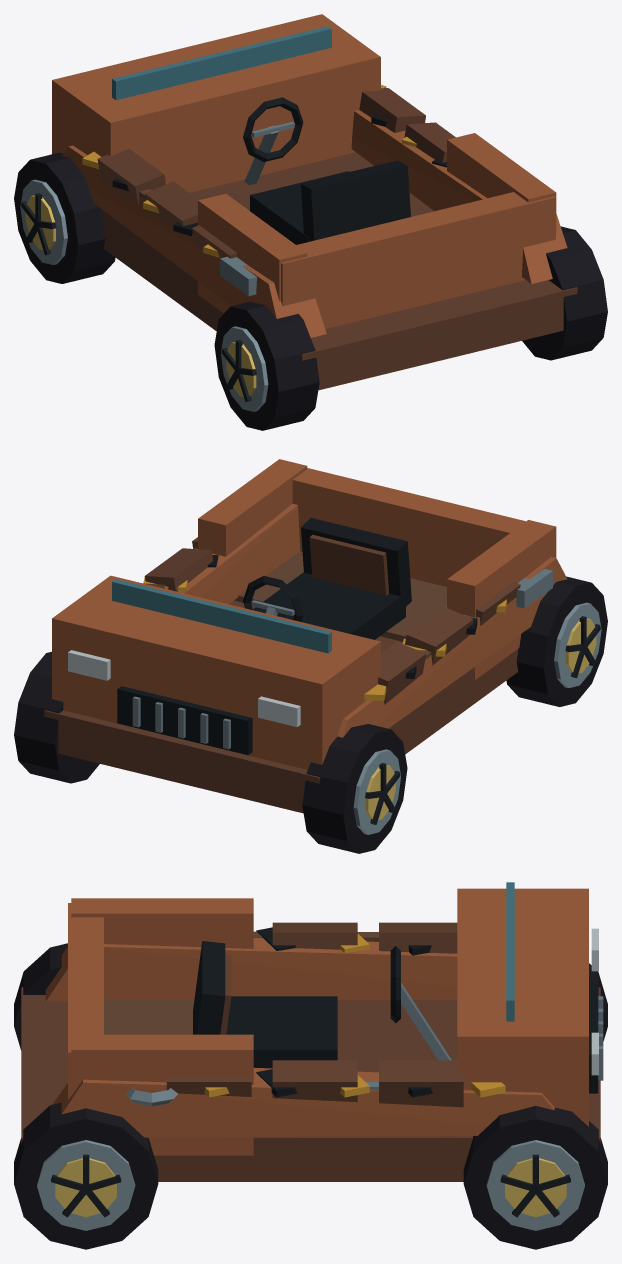
The model's file is kart.glb.
The picture shows the model from 3 angles, top to bottom: view 1: azimuth 30°, elevation 25°; view 2: azimuth 150°, elevation 25°; view 3: azimuth 270°, elevation 25°; orthographic projection. The views are drawn at different scales.
Parts seen in each view (by area): view 1: identity-truck-truck-utility-body, identity-truck-driver-cockpit, wheel-rear-left, wheel-front-left, identity-truck-motif-armor, wheel-rear-right, identity-truck-motif-hazard-stripes, identity-truck-motif-tools; view 2: identity-truck-truck-utility-body, identity-truck-driver-cockpit, wheel-front-left, wheel-rear-left, identity-truck-motif-armor, wheel-front-right, identity-truck-motif-hazard-stripes, identity-truck-motif-tools; view 3: identity-truck-truck-utility-body, wheel-front-right, wheel-rear-right, identity-truck-motif-armor, identity-truck-driver-cockpit, identity-truck-motif-hazard-stripes, wheel-rear-left, identity-truck-motif-tools.
Part boxes in pixels (x1,y1,x2,y2): identity-truck-truck-utility-body: (52,14,577,390); identity-truck-driver-cockpit: (243,97,410,244); wheel-rear-left: (214,301,319,430); wheel-front-left: (14,152,115,283); identity-truck-motif-armor: (97,88,455,258); wheel-rear-right: (522,226,607,360); identity-truck-motif-hazard-stripes: (82,85,446,257); identity-truck-motif-tools: (139,189,256,296); identity-truck-truck-utility-body: (44,459,567,813); identity-truck-driver-cockpit: (243,517,411,639); wheel-front-left: (302,724,407,853); wheel-rear-left: (506,576,607,706); identity-truck-motif-armor: (143,537,520,704); wheel-front-right: (14,651,99,783); identity-truck-motif-hazard-stripes: (143,555,507,700); identity-truck-motif-tools: (419,568,552,659); identity-truck-truck-utility-body: (21,882,603,1181); wheel-front-right: (463,1106,607,1249); wheel-rear-right: (14,1102,158,1249); identity-truck-motif-armor: (166,922,463,1107); identity-truck-driver-cockpit: (193,941,451,1068); identity-truck-motif-hazard-stripes: (204,927,505,1097); wheel-rear-left: (14,943,67,1050); identity-truck-motif-tools: (125,932,378,1106).
Bounding box in the file's own units: 2.13 × 1.13 × 2.8.
